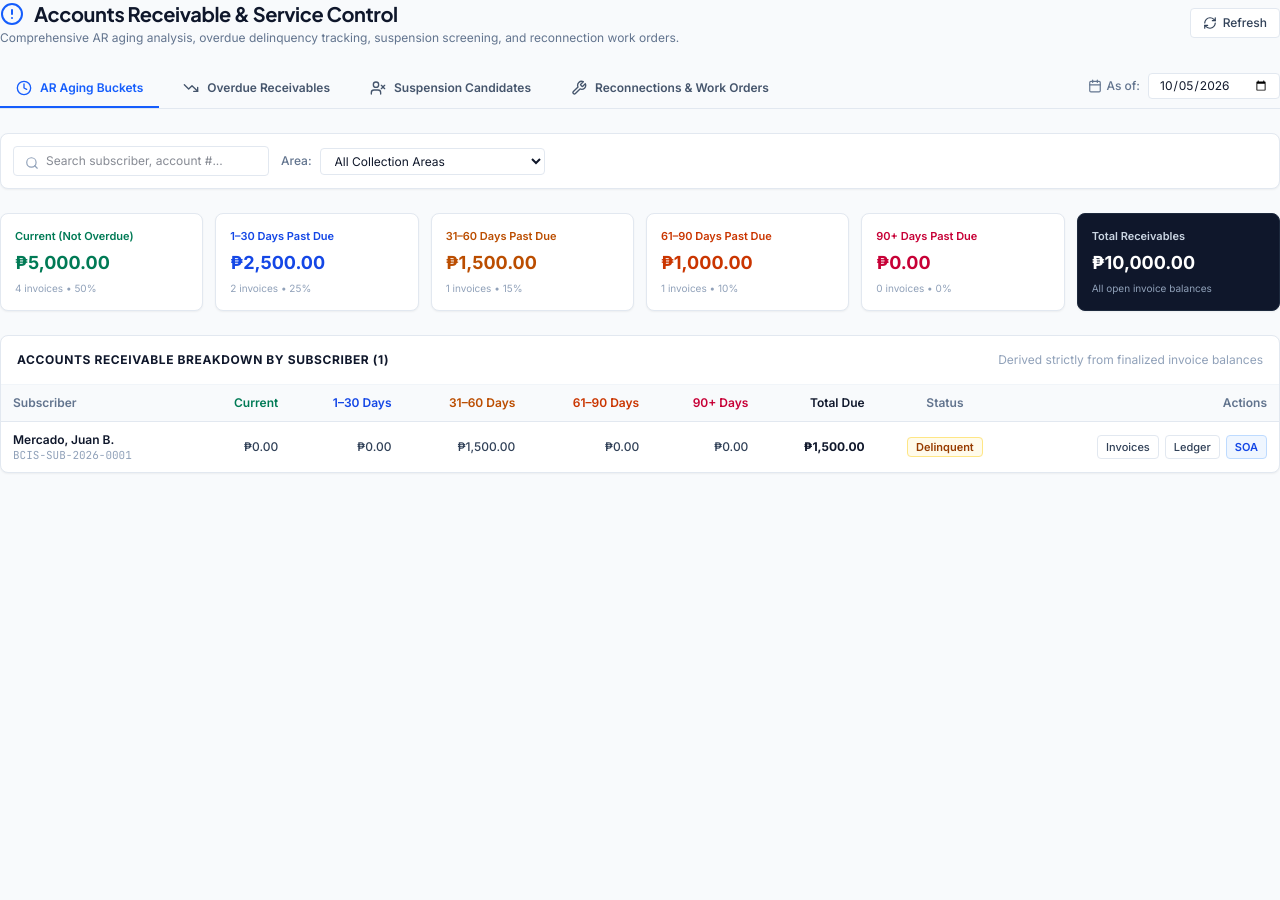
Test: ReceivablesPage Component (Phase 7 - Receivables, Aging, Suspension & Reconnection) › opens Statement of Account modal when SOA button is clicked in AR Aging table
expect the text "Mercado, Juan B." is shown: met, box [13,432,114,446]
Click the button "SOA".
click(1246, 447)  # box [1226,434,1267,459]
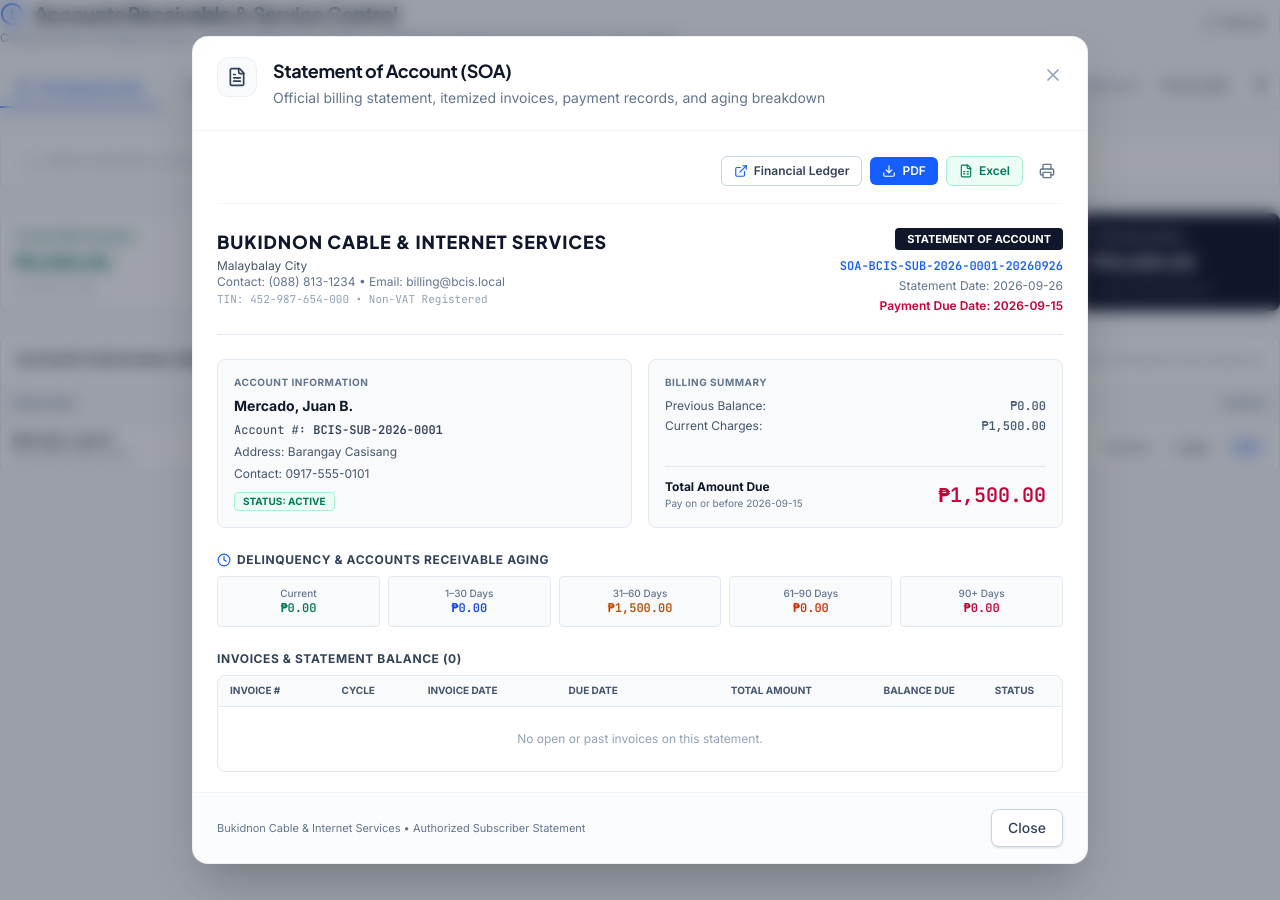
expect the heading "Statement of Account (SOA)" is shown: met, box [273,59,511,82]
